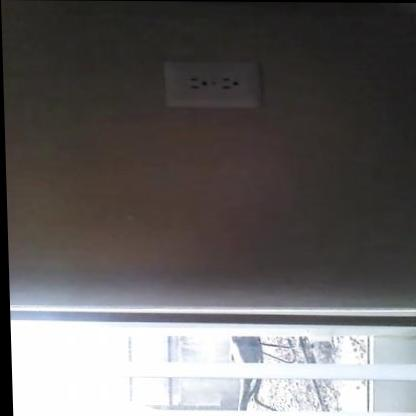OUTLET: (164, 62, 259, 107)
